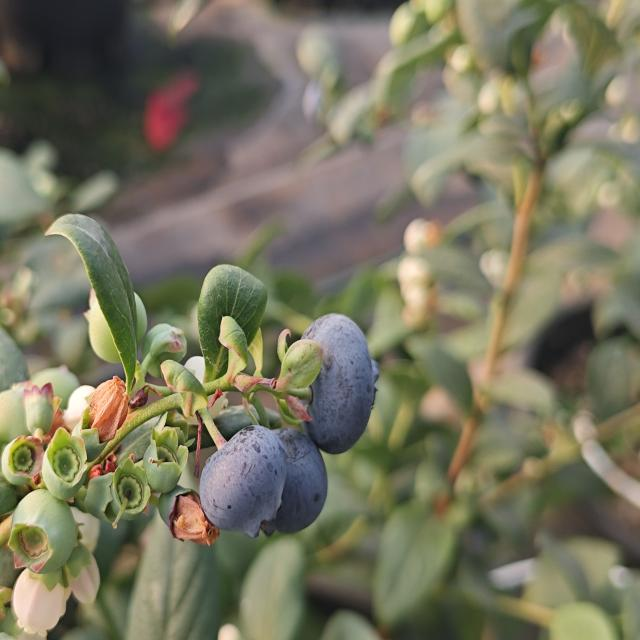ripe: (295, 311, 379, 457), (196, 423, 288, 541), (261, 425, 330, 539)
